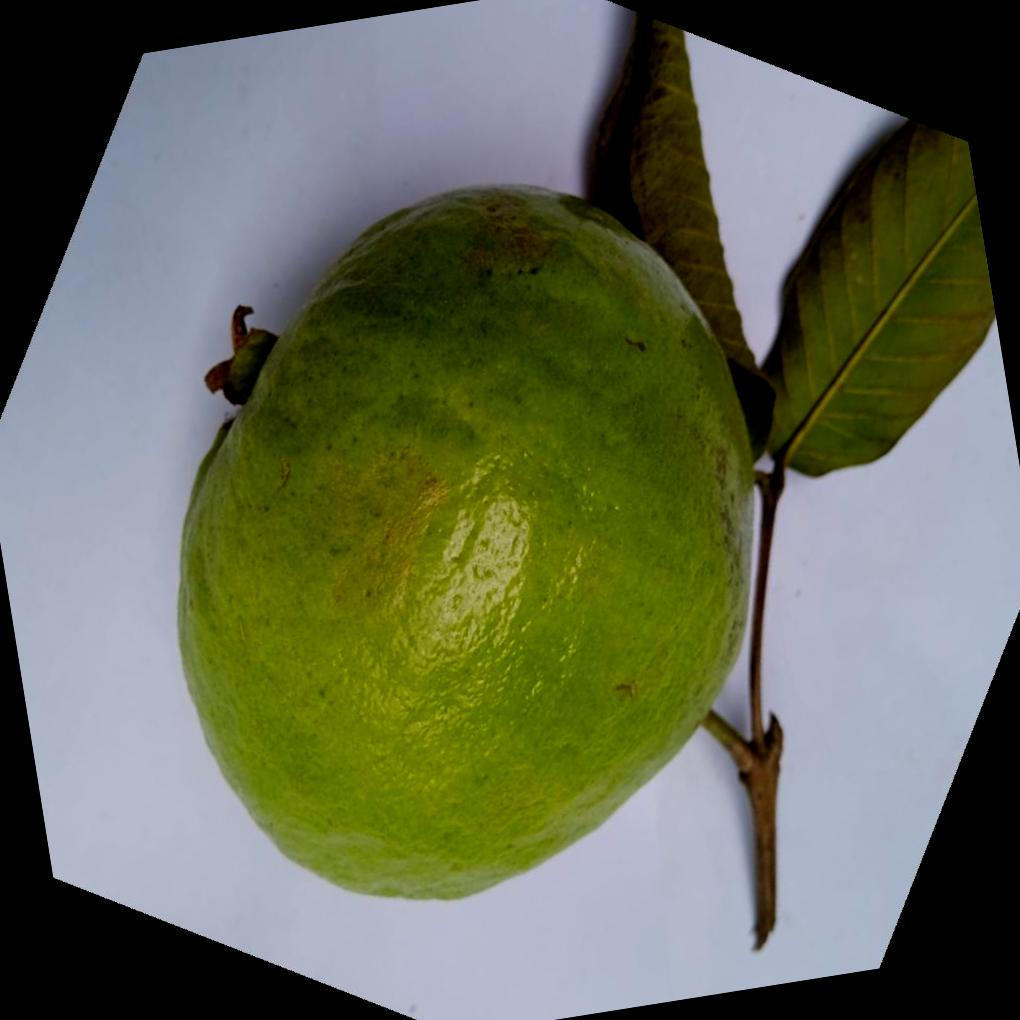FreshGuava: (174, 179, 763, 901)
